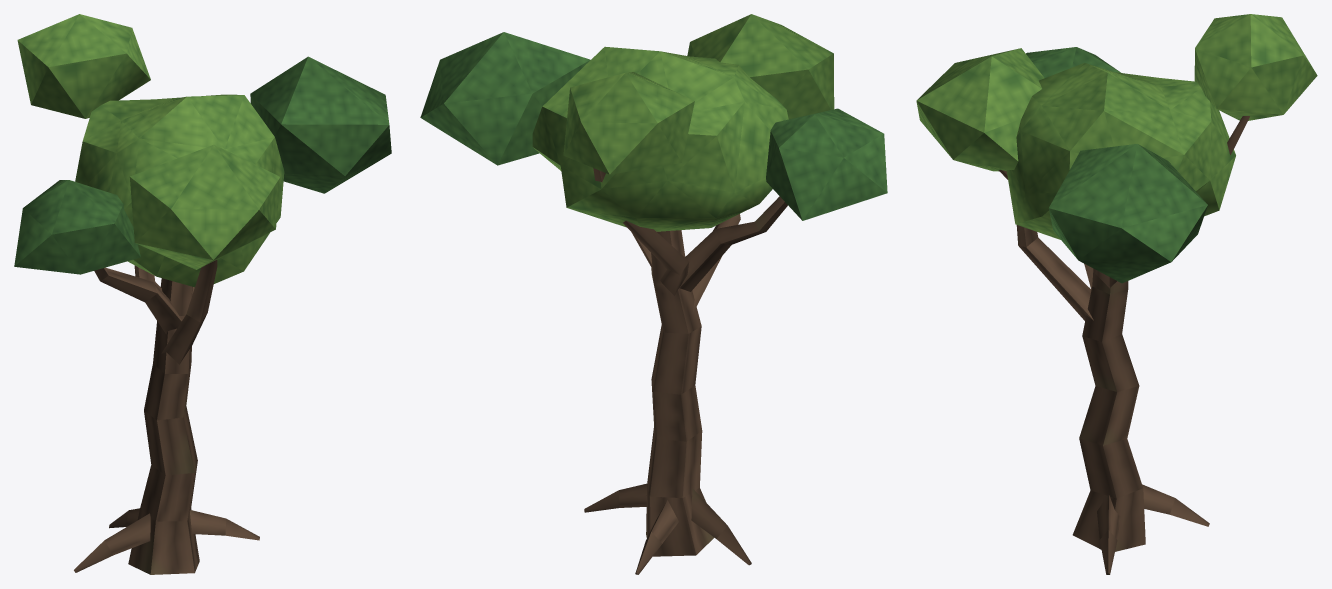
Rendered from SM_Tree_Oak_Medium01_LOD1.fbx.
3 renders of one model, left to right at view 1: azimuth 30°, elevation 25°; view 2: azimuth 150°, elevation 25°; view 3: azimuth 270°, elevation 25°, orthographic. The views are drawn at different scales.
Visible parts, largest first — view 1: SM_Tree_Oak_Medium01_LOD1; view 2: SM_Tree_Oak_Medium01_LOD1; view 3: SM_Tree_Oak_Medium01_LOD1.
Boxes of the visible parts, x1,y1,x2,y2 form: SM_Tree_Oak_Medium01_LOD1: [14, 14, 391, 574]; SM_Tree_Oak_Medium01_LOD1: [420, 14, 887, 574]; SM_Tree_Oak_Medium01_LOD1: [916, 14, 1317, 574].
Bounding box in the file's own units: 12.8 × 15.57 × 10.95.
1 material, 1 textured.
